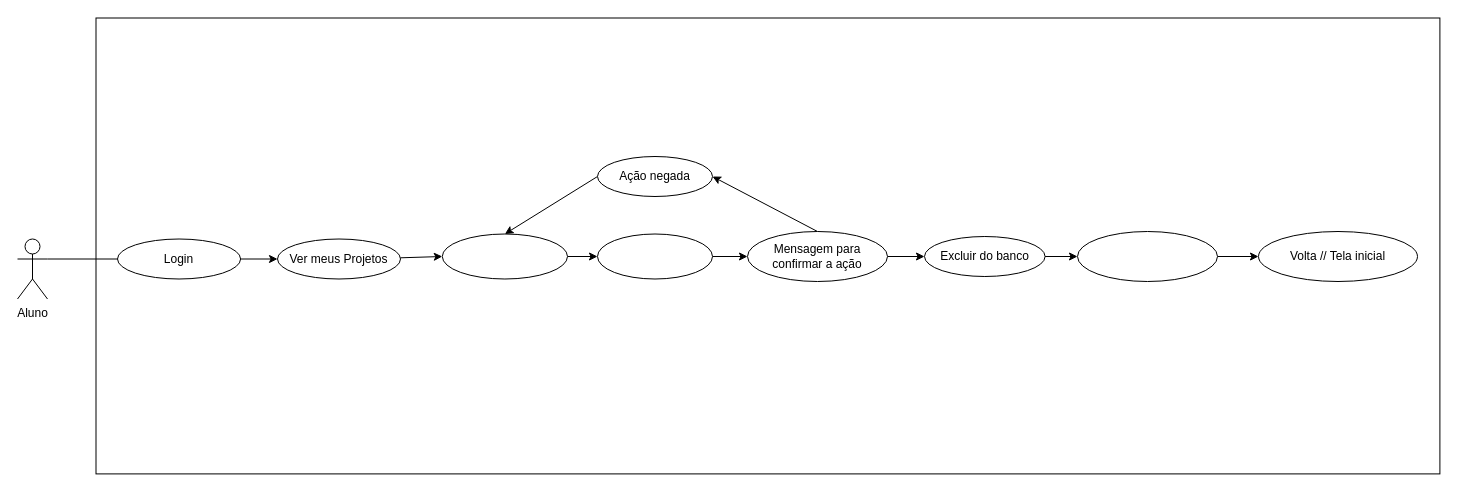
The diagram is 1458 pixels wide and 491 high, and some of its shapes have lost their labels. Each missing label, with the centre of its shape:
Excluir Projeto: the point at 654,256
Mensagem de confirmação: the point at 1147,256
Selecionar Projeto: the point at 504,256
